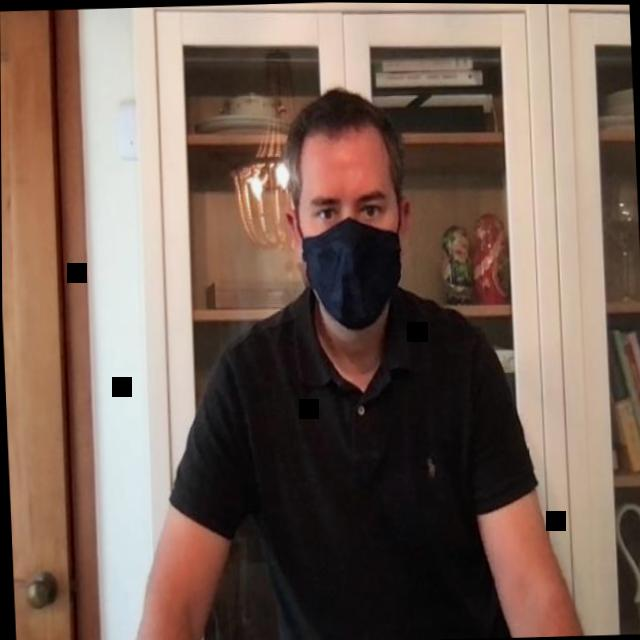Mask: (283, 85, 413, 331)
